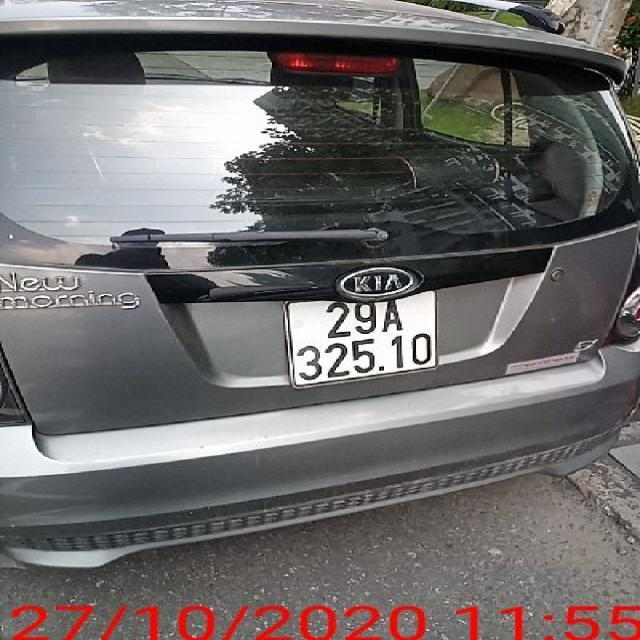bien_so_oto: (283, 289, 439, 390)
